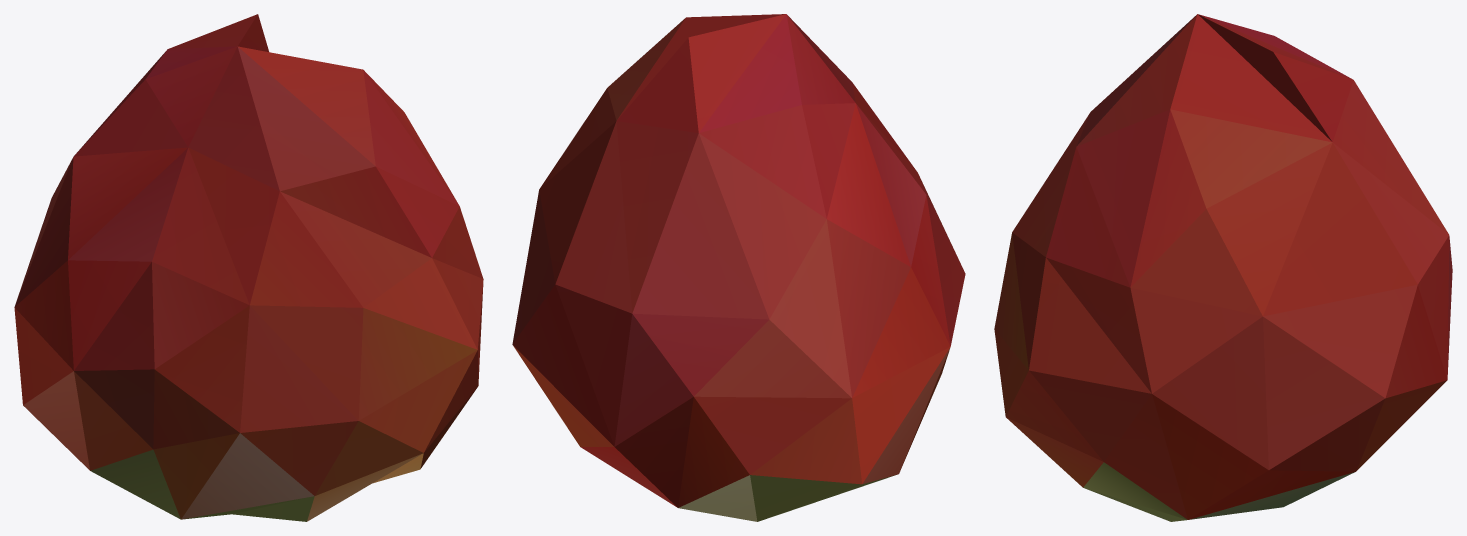
3 views of the same model, side by side, from view 1: azimuth 30°, elevation 25°; view 2: azimuth 150°, elevation 25°; view 3: azimuth 270°, elevation 25° (orthographic).
Visible parts, largest first — view 1: strawberry_07_visual; view 2: strawberry_07_visual; view 3: strawberry_07_visual.
Part boxes in pixels (x1=…): strawberry_07_visual: x1=14, y1=14, x2=483, y2=521; strawberry_07_visual: x1=512, y1=14, x2=965, y2=521; strawberry_07_visual: x1=994, y1=14, x2=1452, y2=521.
Bounding box in the file's own units: 0.8282 × 0.8514 × 0.9646.
